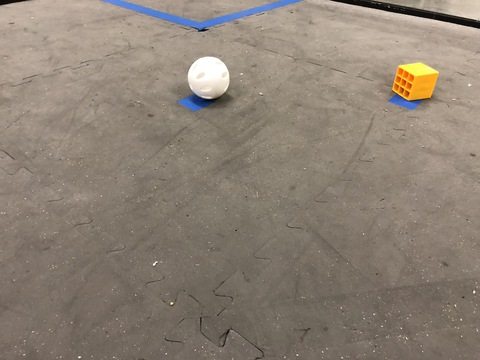ball: (181, 53, 247, 113)
block: (392, 57, 440, 106)
